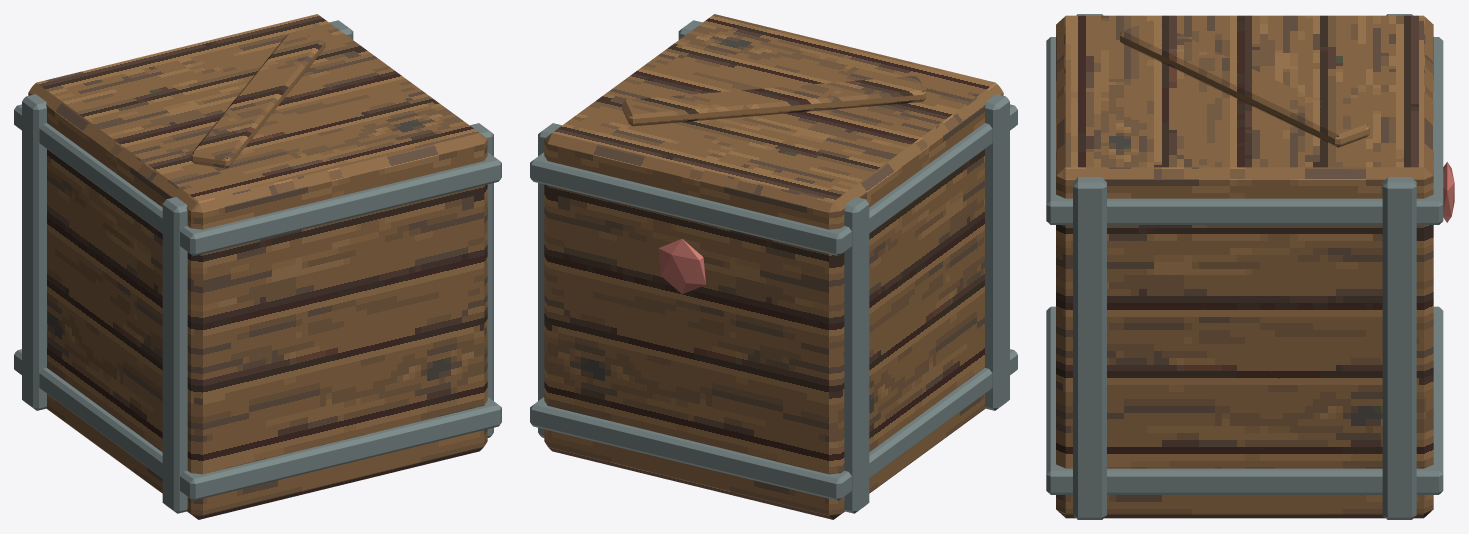
File: caixa.fbx
The picture shows the model from 3 angles, left to right: view 1: azimuth 30°, elevation 25°; view 2: azimuth 150°, elevation 25°; view 3: azimuth 270°, elevation 25°; orthographic projection. The views are drawn at different scales.
Parts seen in each view (by area): view 1: pedreira_caixa; view 2: pedreira_caixa; view 3: pedreira_caixa.
Boxes of the visible parts, <box> form: pedreira_caixa: <box>14,14,501,519</box>; pedreira_caixa: <box>530,14,1017,519</box>; pedreira_caixa: <box>1046,14,1454,519</box>.
Size of the model in its own units: 84.2 by 83.2 by 84.33.
3 materials, 1 textured.
